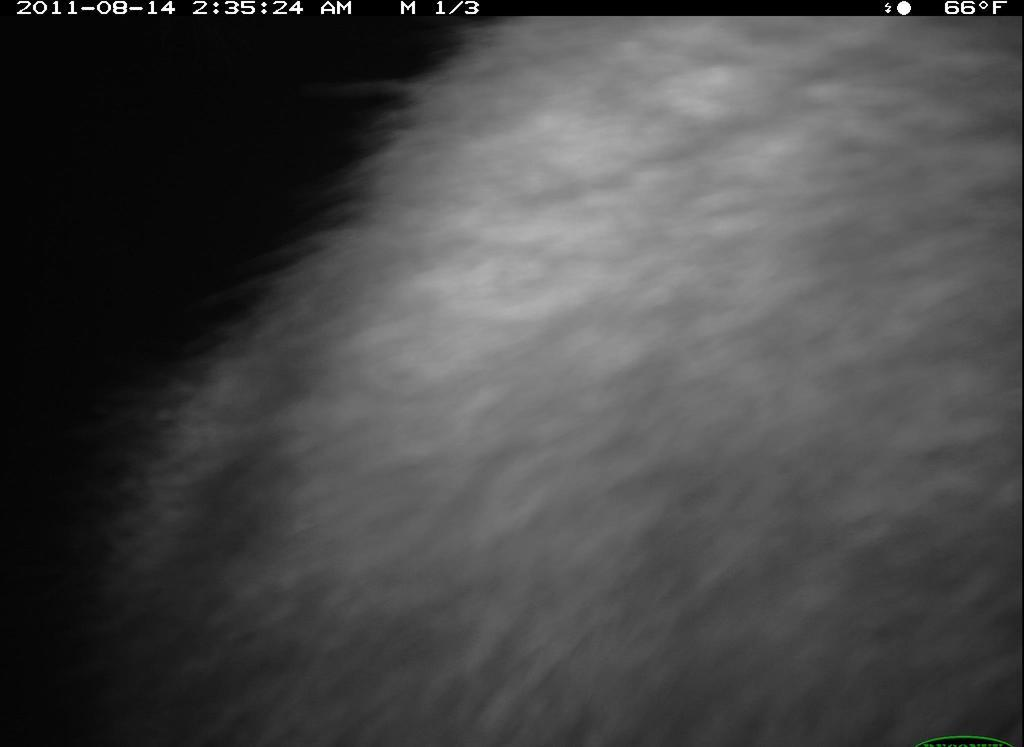raccoon: (57, 20, 1022, 747)
